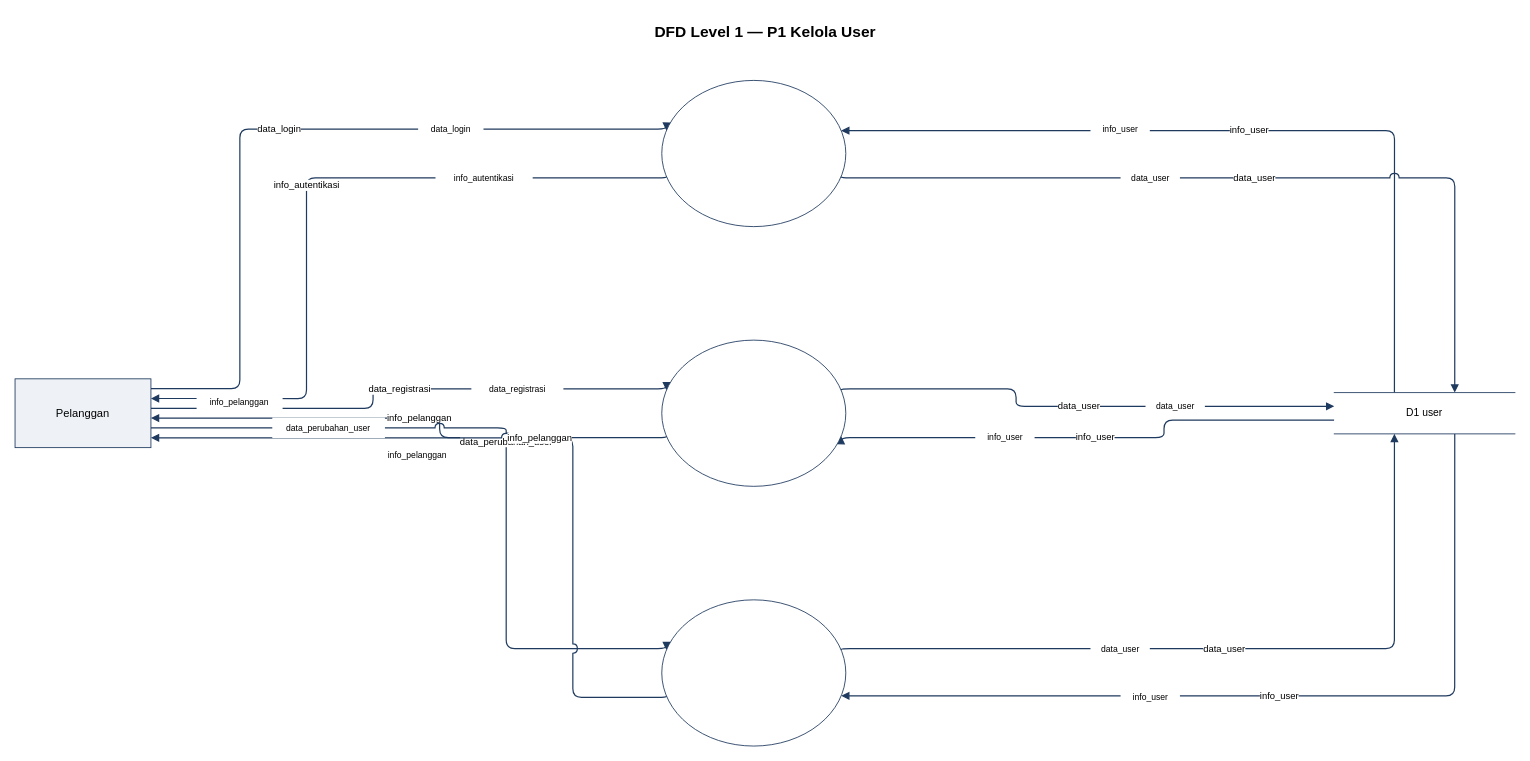
Image size: 1530x761. Some labels were removed from this diagram. Here are the shapes that lost their labels. From the top down, the centre of each, then its label:
At (x=753, y=153): "P1.1 Autentikasi".
At (x=753, y=412): "P1.2 Register User".
At (x=753, y=672): "P1.3 Edit User".
